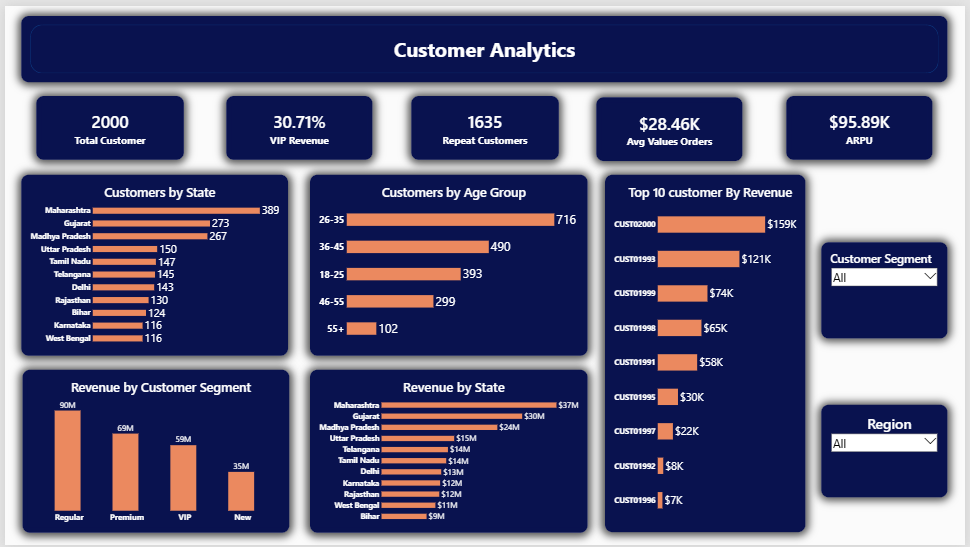

This screenshot's page, from the dashboard's own definition file:
{"tool":"powerbi","page":{"name":"customer Analytics","canvas":[3840,2160],"ordinal":1},"visuals":[{"type":"shape","box":[65,40,3705,265],"z":0},{"type":"card","fields":{"Values":["ecommerce_customers.Total_Customer"]},"box":[115,360,590,255],"z":1000},{"type":"card","fields":{"Values":["ecommerce_orders.Returning Customers"]},"box":[1740,360,590,255],"z":2000},{"type":"card","fields":{"Values":["ecommerce_orders.VIP Revenue"]},"box":[930,365,585,255],"z":3000},{"type":"card","fields":{"Values":["ecommerce_orders.Avg Values Orders"]},"box":[2560,360,585,255],"z":4000},{"type":"columnChart","title":"Revenue by Customer Segment","fields":{"Category":["ecommerce_customers.customer_segment"],"Y":["Sum(ecommerce_orders.revenue)"]},"box":[67.6,1453.5,1067.2,651.9],"z":5000},{"type":"clusteredBarChart","title":"Customers by Age Group","fields":{"Category":["ecommerce_customers.age_group"],"Y":["ecommerce_customers.Total Customer"]},"box":[1221.7,676.1,1110.7,724.4],"z":6000},{"type":"slicer","title":"Customer Segment","fields":{"Values":["ecommerce_customers.customer_segment"]},"box":[3263.5,450.1,506.4,688.2],"z":7000},{"type":"slicer","title":"Region ","fields":{"Values":["ecommerce_orders.region"]},"box":[3263.5,1289.8,506.4,774.8],"z":8000},{"type":"clusteredBarChart","title":"Customers by State","fields":{"Category":["ecommerce_orders.state"],"Y":["ecommerce_customers.Total Customer"]},"box":[62.8,676.1,1067.2,724.4],"z":9000},{"type":"clusteredBarChart","title":"Revenue by State","fields":{"Category":["ecommerce_orders.state"],"Y":["ecommerce_orders.Total Revenue"]},"box":[1221.7,1453.5,1110.7,651.9],"z":10000},{"type":"clusteredBarChart","title":"Customers by City","fields":{"Category":["ecommerce_orders.city"],"Y":["ecommerce_customers.Total Customer"]},"box":[2400,676.1,801.6,1429.4],"z":11000}]}

Visuals, with their boxes in screenshot pixels (x1, y1, x2, y2), scaled from the page's 3840x2160 canvas onto the 970x547 screenshot:
shape: <bbox>16, 10, 952, 77</bbox>
card - ecommerce_customers.Total_Customer: <bbox>29, 91, 178, 156</bbox>
card - ecommerce_orders.Returning Customers: <bbox>440, 91, 589, 156</bbox>
card - ecommerce_orders.VIP Revenue: <bbox>235, 92, 383, 157</bbox>
card - ecommerce_orders.Avg Values Orders: <bbox>647, 91, 794, 156</bbox>
"Revenue by Customer Segment" columnChart: <bbox>17, 368, 287, 533</bbox>
"Customers by Age Group" clusteredBarChart: <bbox>309, 171, 589, 355</bbox>
"Customer Segment" slicer: <bbox>824, 114, 952, 288</bbox>
"Region " slicer: <bbox>824, 327, 952, 523</bbox>
"Customers by State" clusteredBarChart: <bbox>16, 171, 285, 355</bbox>
"Revenue by State" clusteredBarChart: <bbox>309, 368, 589, 533</bbox>
"Customers by City" clusteredBarChart: <bbox>606, 171, 809, 533</bbox>
